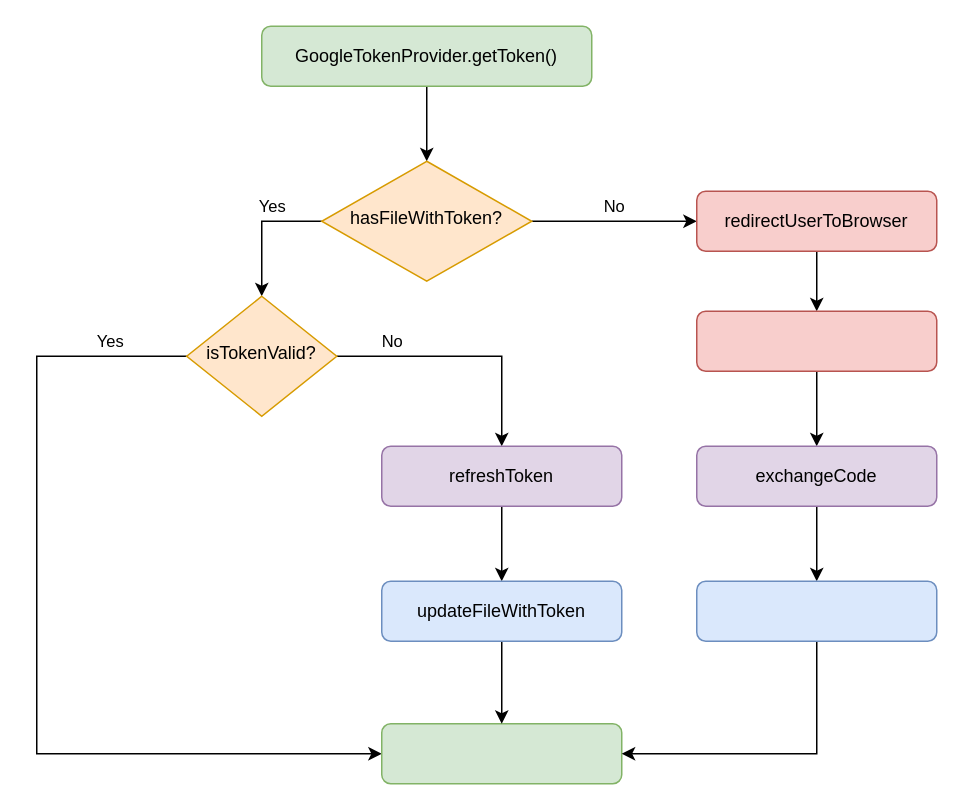
This 963x810 diagram has some shape labels left out. The centre of each missing label's shape, as x and y in pixels:
"getAuthCodeFromBrowser" belongs at pixel 816 340.
"Return accessToken" belongs at pixel 501 753.
"saveFileWithToken" belongs at pixel 816 610.
